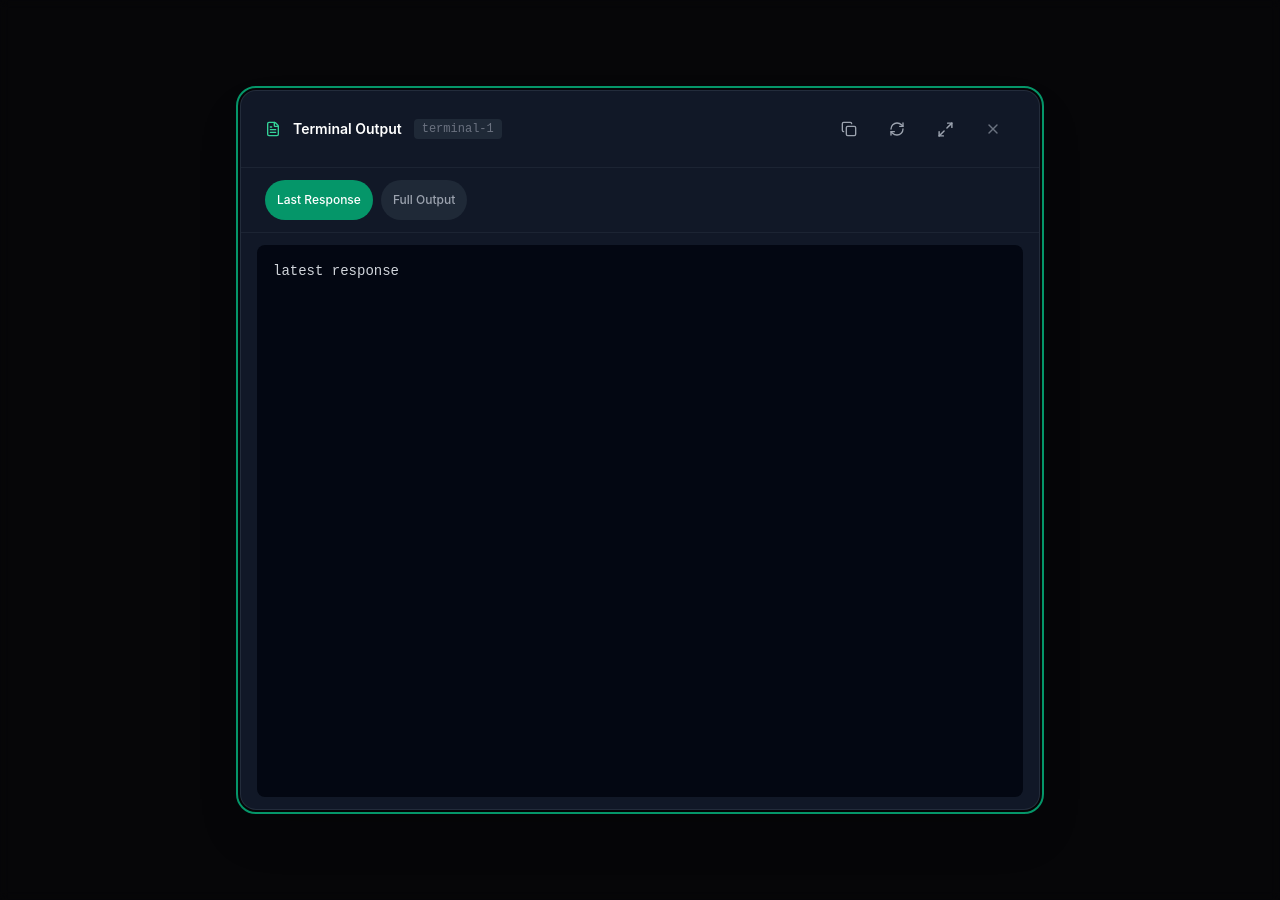
Scenario: OutputViewer fullscreen › loads older chunks through cursors in exact display order
expect the text "latest response" is shown: met, box left=257, top=245, right=1023, bottom=797
Click the button "Full Output".
click(424, 200)  # box left=381, top=180, right=467, bottom=220
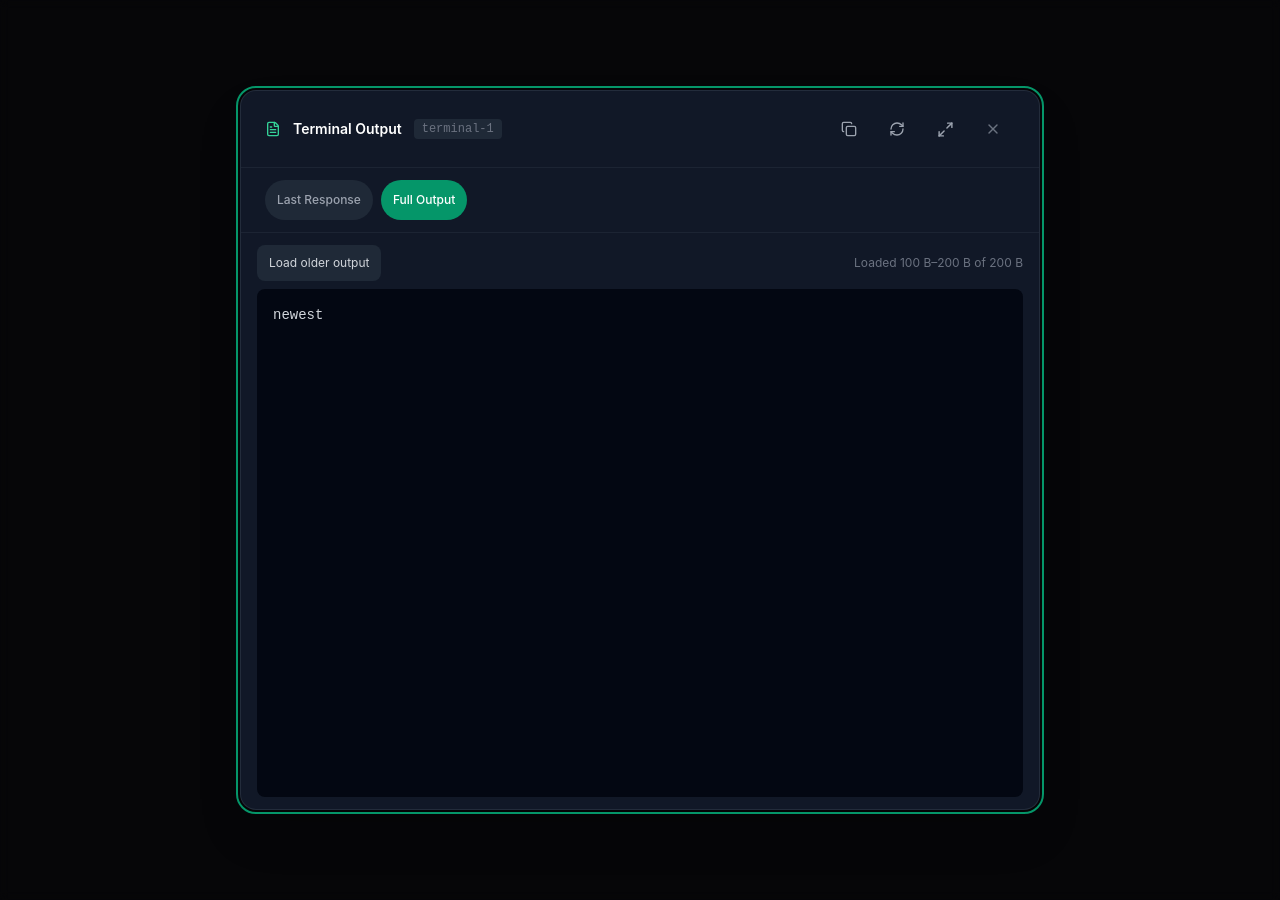
expect the text "newest" is shown: met, box left=257, top=289, right=1023, bottom=797
Click the button "Load older output".
click(319, 263)  # box left=257, top=245, right=382, bottom=281
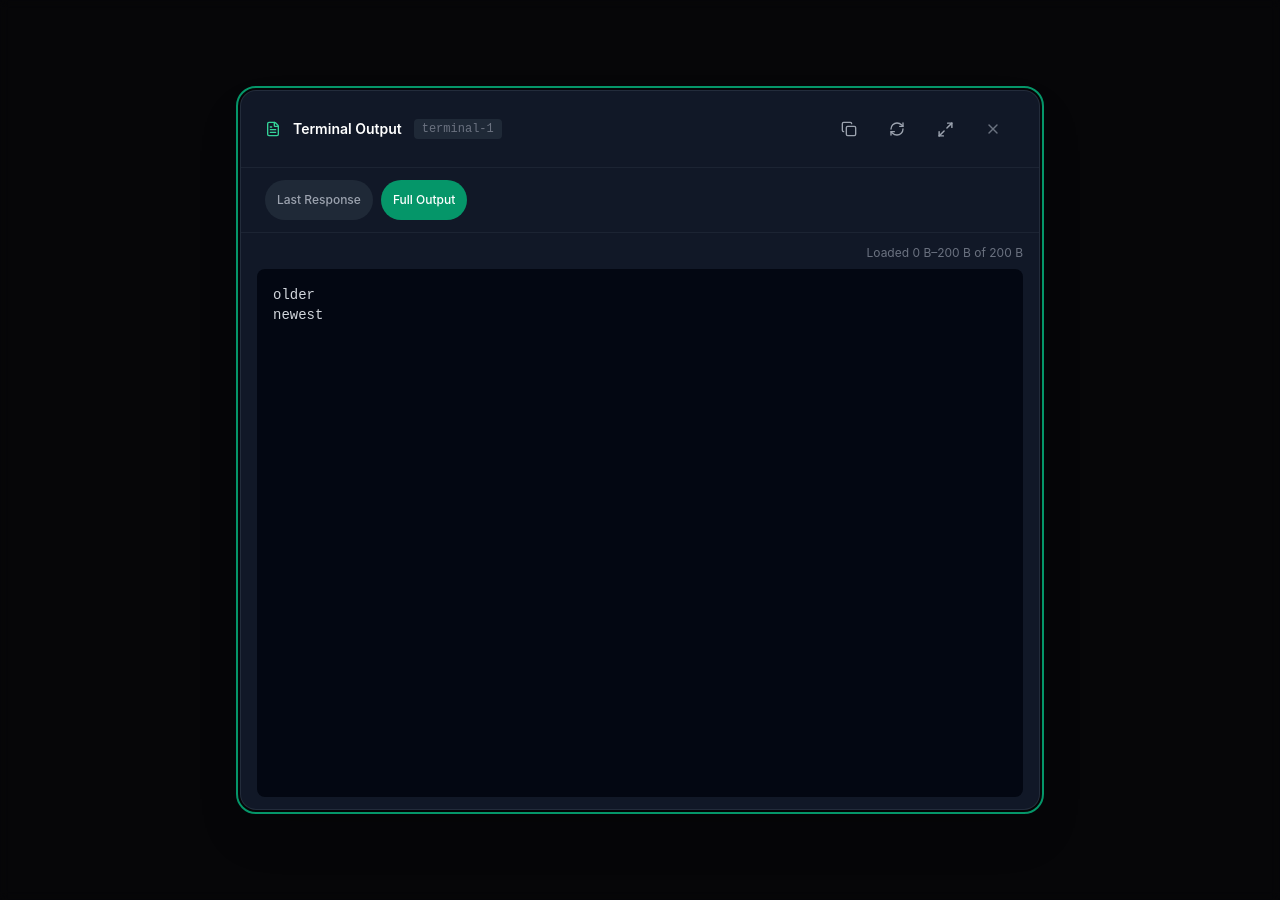
expect the text with test id "terminal-output-surface" reads "older newest": met, box left=273, top=287, right=323, bottom=323
expect the text with test id "terminal-output-range" reads "Loaded 0 B–200 B of 200 B": met, box left=866, top=245, right=1023, bottom=260
